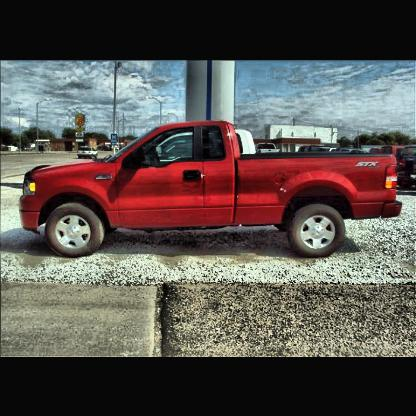Ford F-150 Regular Cab 2007: (18, 121, 404, 258)
